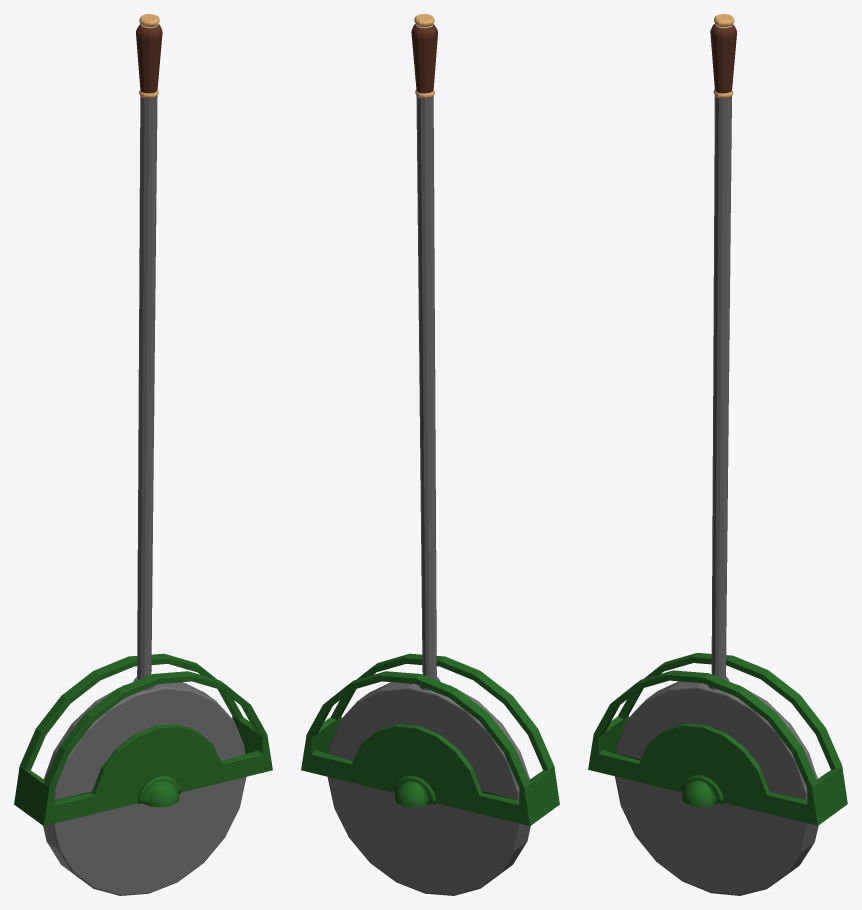
File: foghorn_lever.glb
3 renders of one model, left to right at view 1: azimuth 30°, elevation 25°; view 2: azimuth 150°, elevation 25°; view 3: azimuth 330°, elevation 25°, orthographic.
Parts seen in each view (by area): view 1: Circle.001, Circle, Circle.002; view 2: Circle.001, Circle, Circle.002; view 3: Circle.001, Circle, Circle.002.
Part boxes in pixels (left/top/right/bottom): Circle.001: left=43, top=14, right=246, bottom=895; Circle: left=14, top=653, right=272, bottom=825; Circle.002: left=137, top=775, right=180, bottom=807; Circle.001: left=327, top=14, right=530, bottom=895; Circle: left=301, top=653, right=559, bottom=825; Circle.002: left=393, top=775, right=436, bottom=807; Circle.001: left=615, top=14, right=818, bottom=895; Circle: left=588, top=653, right=847, bottom=825; Circle.002: left=680, top=775, right=723, bottom=806.
Size of the model in its own units: 0.4 by 1.45 by 0.1578.
